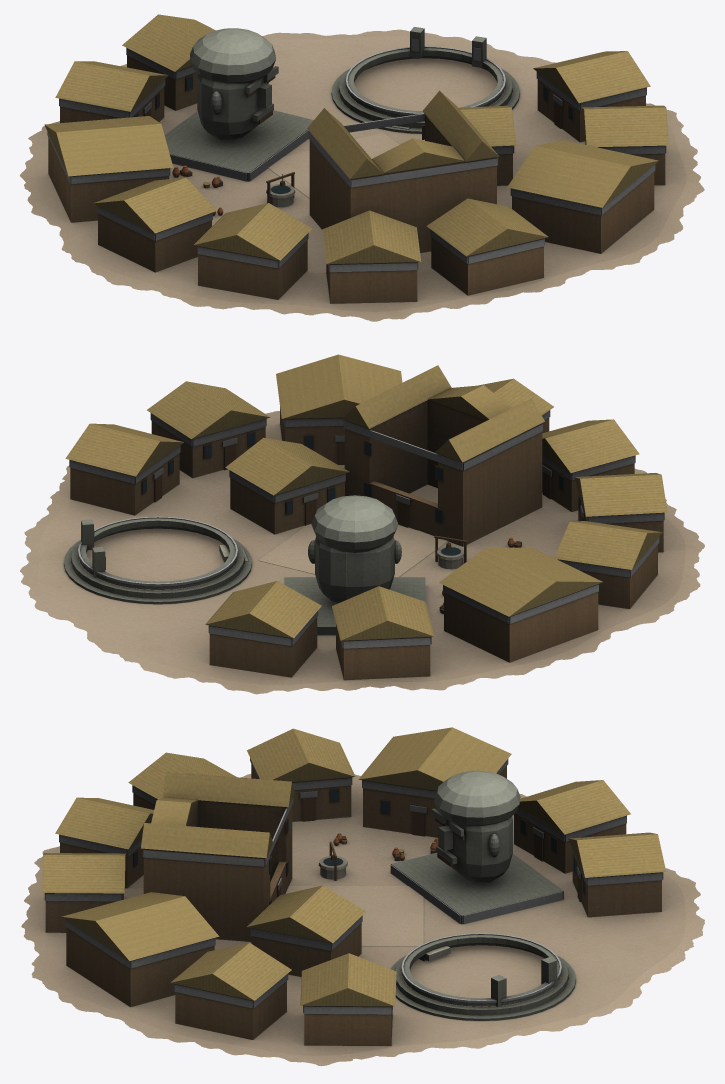
The model's file is bronze-town-medium-a-americas.glb.
3 views of the same model, one above another, from view 1: azimuth 30°, elevation 25°; view 2: azimuth 150°, elevation 25°; view 3: azimuth 270°, elevation 25° (orthographic).
Visible parts, largest first — view 1: LOD0; view 2: LOD0; view 3: LOD0.
Boxes of the visible parts, <box> form: LOD0: <box>19,14,704,321</box>; LOD0: <box>20,354,704,694</box>; LOD0: <box>21,727,704,1066</box>.
Size of what is drawn, in the model's own units: 6.05 by 1.05 by 5.91.
Materials: 3 (3 with a texture image).
